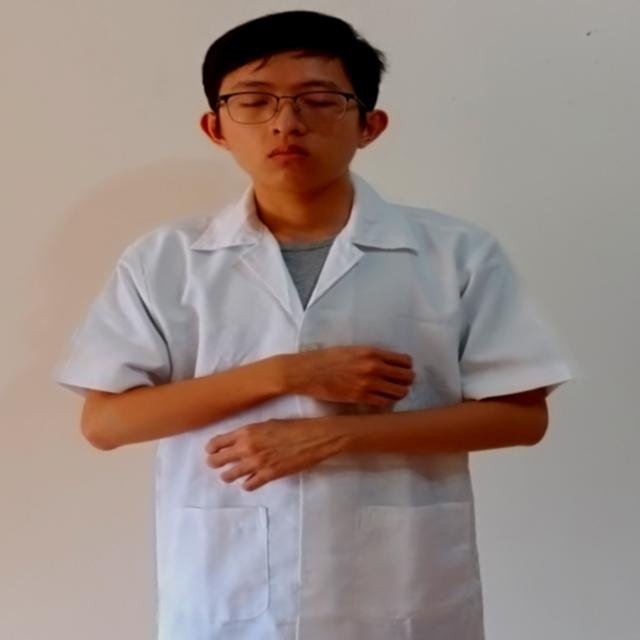person_with_labcoat: (55, 11, 571, 640)
